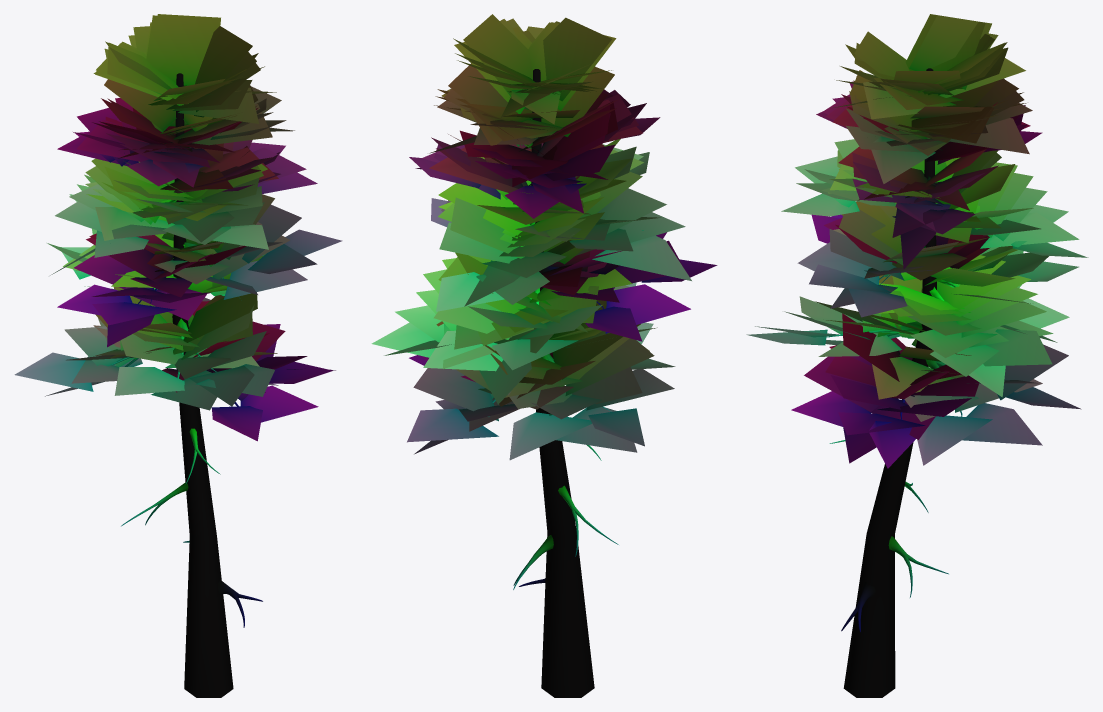
The model's file is M_Pine_1_9.fbx.
The picture shows the model from 3 angles, left to right: view 1: azimuth 30°, elevation 25°; view 2: azimuth 150°, elevation 25°; view 3: azimuth 270°, elevation 25°; orthographic projection. The views are drawn at different scales.
Visible parts, largest first — view 1: Tree_9; view 2: Tree_9; view 3: Tree_9.
Part boxes in pixels (<box>): Tree_9: <box>14,14,342,697</box>; Tree_9: <box>371,14,717,697</box>; Tree_9: <box>746,14,1088,697</box>.
Bounding box in the file's own units: 1320 × 2834 × 1352.
